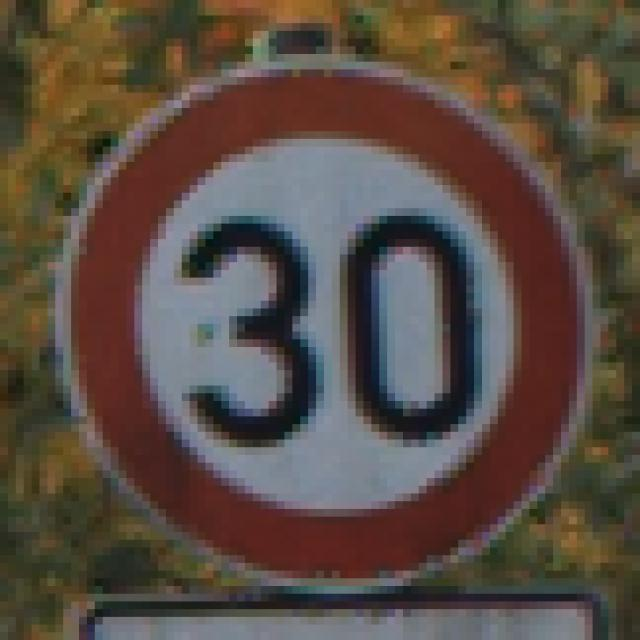Speed Limit -30-: (51, 50, 581, 582)
